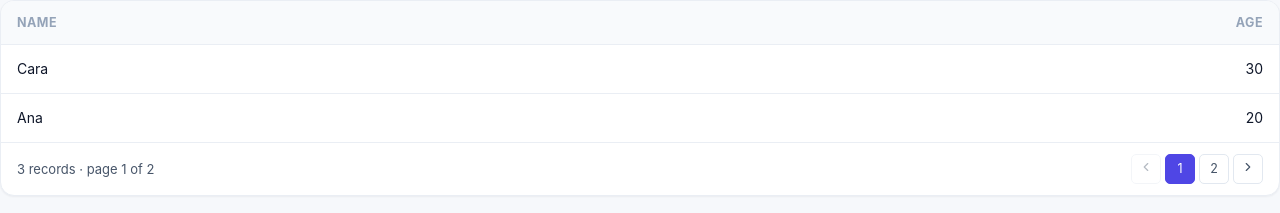
Test: DataTable › paginates with pageSize
The image size is (1280, 213).
Expected: the text "3 records · page 1 of 2" is shown, [17, 159, 154, 179]
Click the button "2". click: coordinates (1214, 169)
box: [1199, 154, 1229, 184]
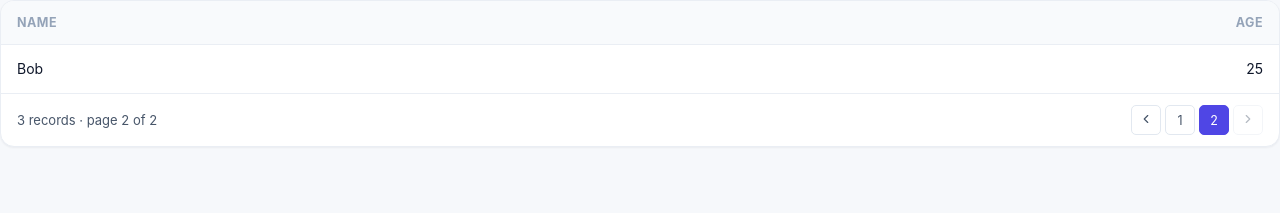
Now the text "3 records · page 2 of 2" is shown, box [17, 110, 157, 130]
